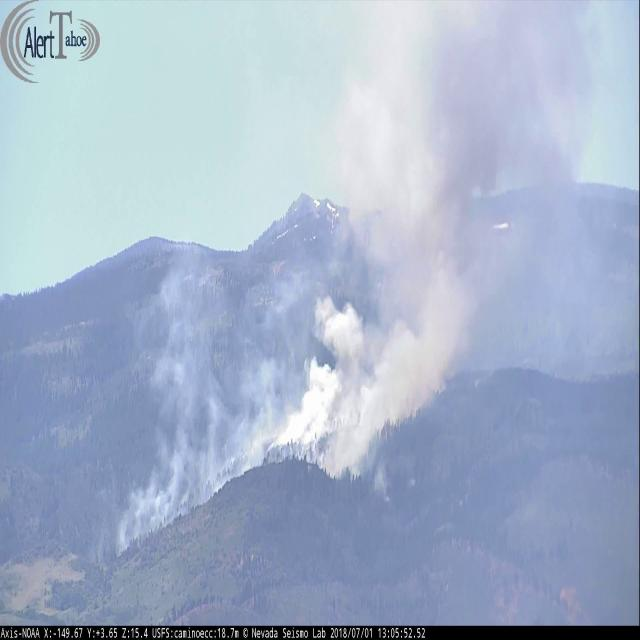smoke: (113, 0, 616, 559)
